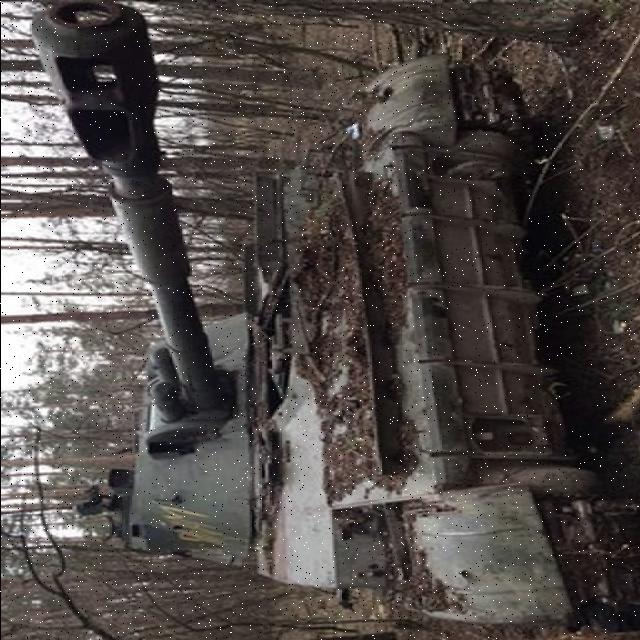ART: (20, 0, 638, 626)
